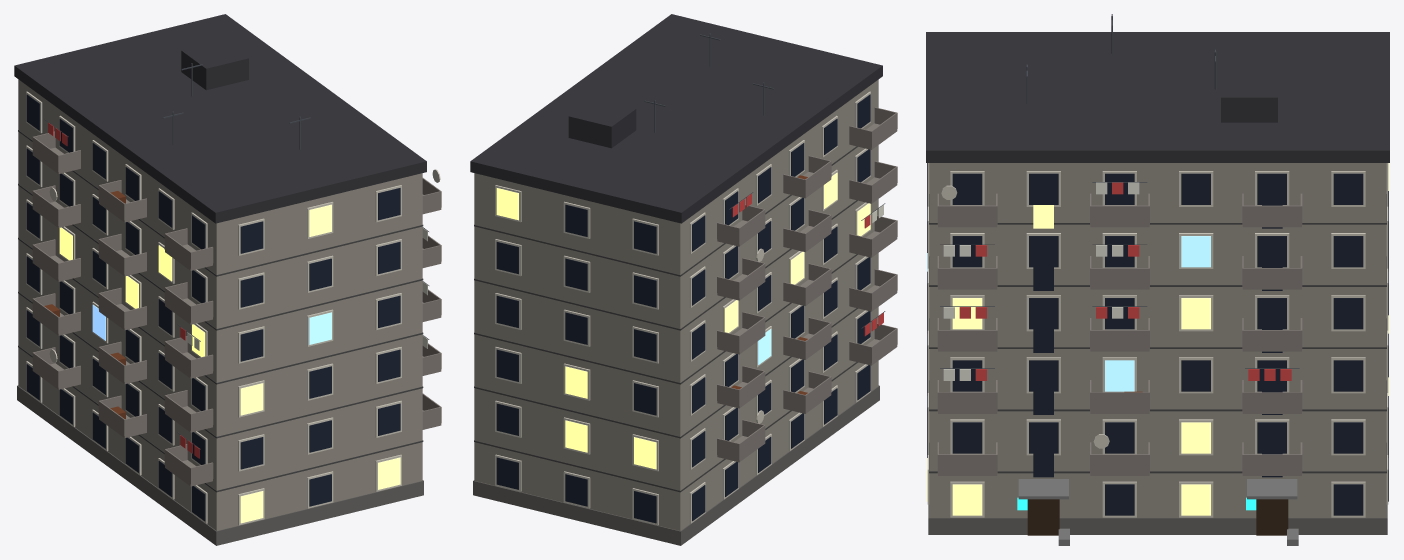
File: panel_6.glb
3 renders of one model, left to right at view 1: azimuth 30°, elevation 25°; view 2: azimuth 150°, elevation 25°; view 3: azimuth 270°, elevation 25°, orthographic. The views are drawn at different scales.
Parts seen in each view (by area): view 1: panel_6; view 2: panel_6; view 3: panel_6.
Boxes of the visible parts, left/top/right/bottom form: panel_6: left=14, top=14, right=441, bottom=545; panel_6: left=470, top=14, right=897, bottom=545; panel_6: left=926, top=14, right=1389, bottom=545.
Bounding box in the file's own units: 15.13 × 20.4 × 20.3.
